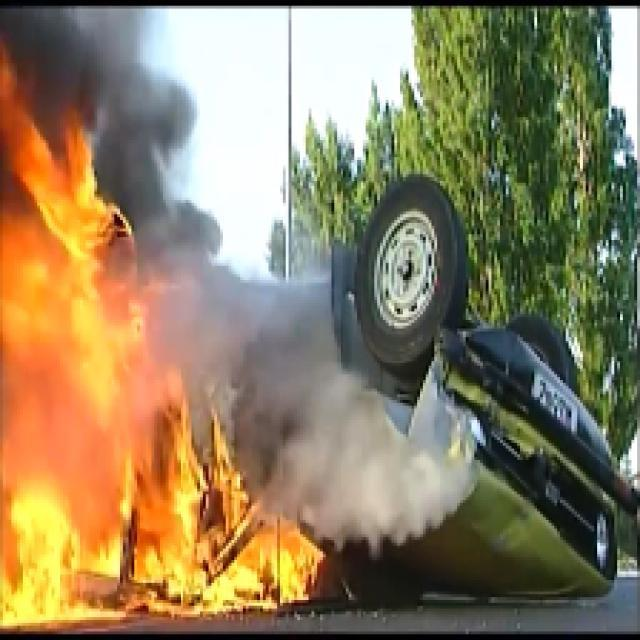Fire: (3, 54, 326, 640)
Smoke: (206, 268, 434, 534)
